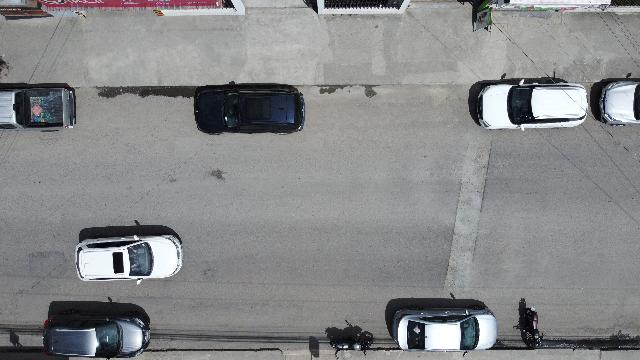Vehiculo: (75, 221, 183, 284), (43, 299, 151, 359), (468, 77, 588, 131), (384, 296, 498, 352), (191, 82, 307, 136), (590, 74, 640, 127)
